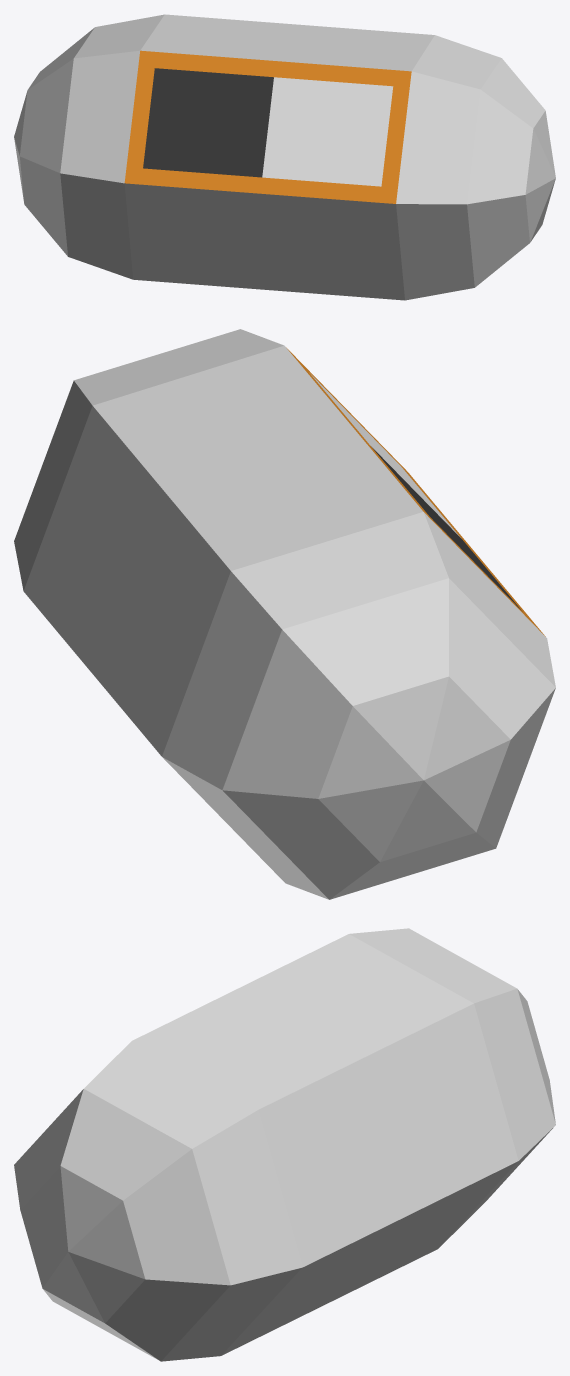
File: Pod.fbx
3 renders of one model, top to bottom at view 1: azimuth 30°, elevation 25°; view 2: azimuth 150°, elevation 25°; view 3: azimuth 270°, elevation 25°, orthographic. The views are drawn at different scales.
Visible parts, largest first — view 1: Capsule_1.001; view 2: Capsule_1.001; view 3: Capsule_1.001.
Boxes of the visible parts, x1,y1,x2,y2 form: Capsule_1.001: (14, 14, 555, 300); Capsule_1.001: (14, 329, 555, 899); Capsule_1.001: (14, 928, 555, 1361).
Bounding box in the file's own units: 5.93 × 5.53 × 3.19.
